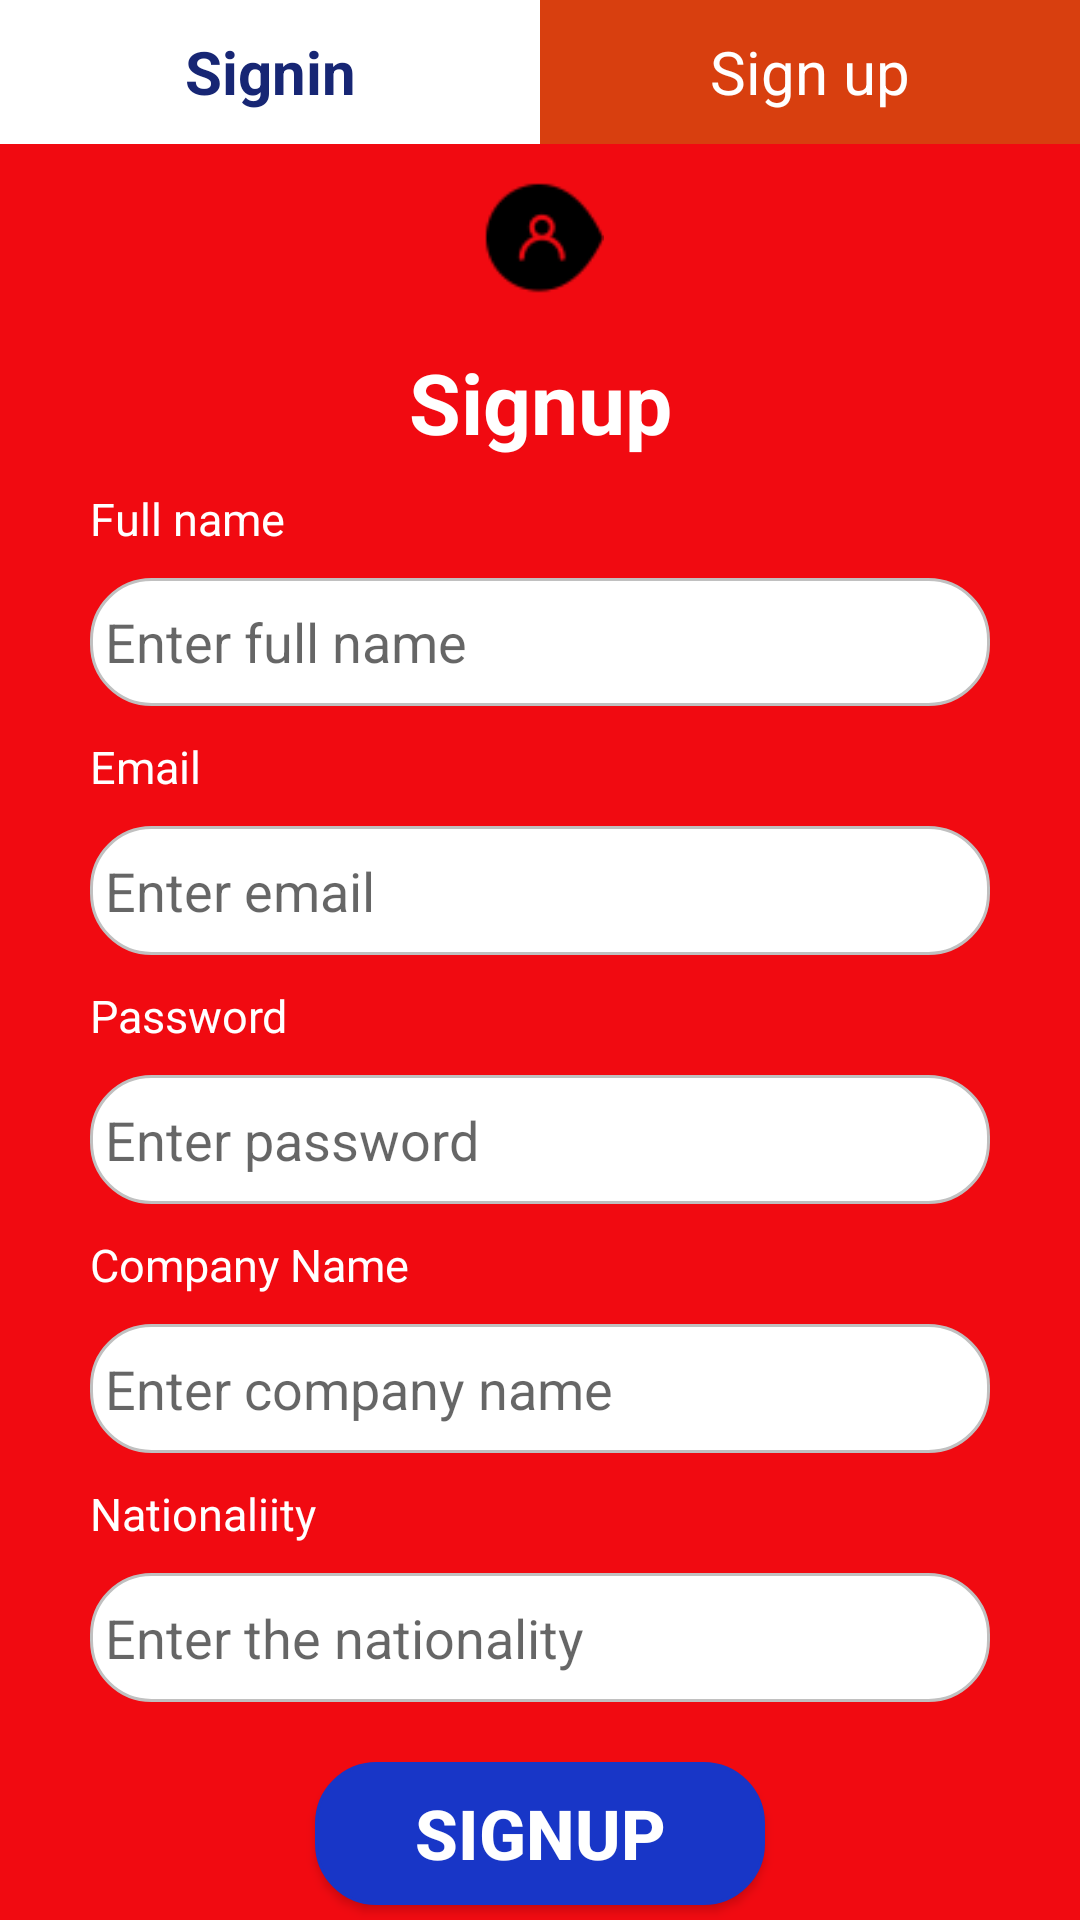

Icons on this 1080px×1920px Android screen, each with the point to tap as [x,y]:
loginicon: [544,238]
